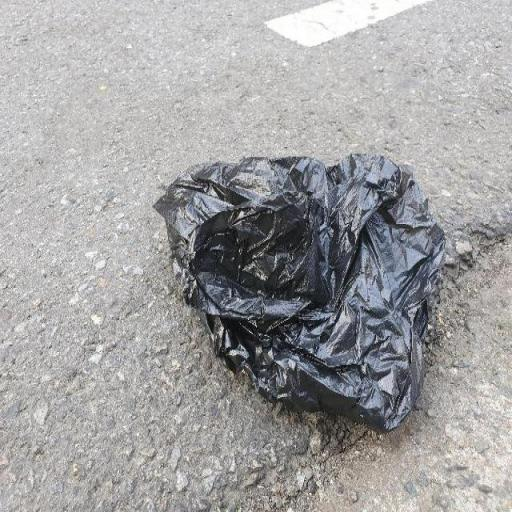plastic-bag: (149, 148, 453, 433)
